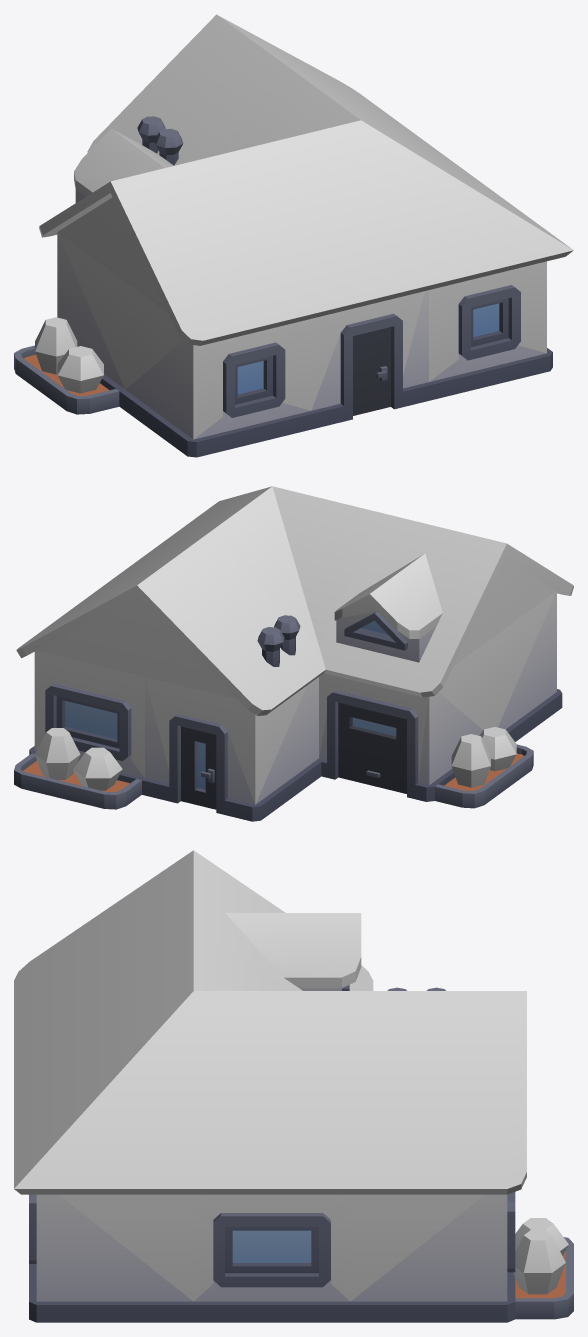
Rendered from haus_m.glb.
The picture shows the model from 3 angles, top to bottom: view 1: azimuth 30°, elevation 25°; view 2: azimuth 150°, elevation 25°; view 3: azimuth 270°, elevation 25°; orthographic projection. The views are drawn at different scales.
Visible parts, largest first — view 1: dach, rest, wand; view 2: dach, rest, wand; view 3: dach, rest, wand.
Boxes of the visible parts, x1,y1,x2,y2 form: dach: [35, 14, 573, 393]; rest: [14, 116, 552, 457]; wand: [57, 197, 546, 439]; dach: [16, 486, 573, 790]; rest: [14, 591, 562, 821]; wand: [34, 558, 556, 804]; dach: [14, 850, 568, 1294]; rest: [29, 985, 573, 1322]; wand: [59, 1194, 484, 1301].
Size of the model in its own units: 1.43 by 0.7375 by 1.43.
